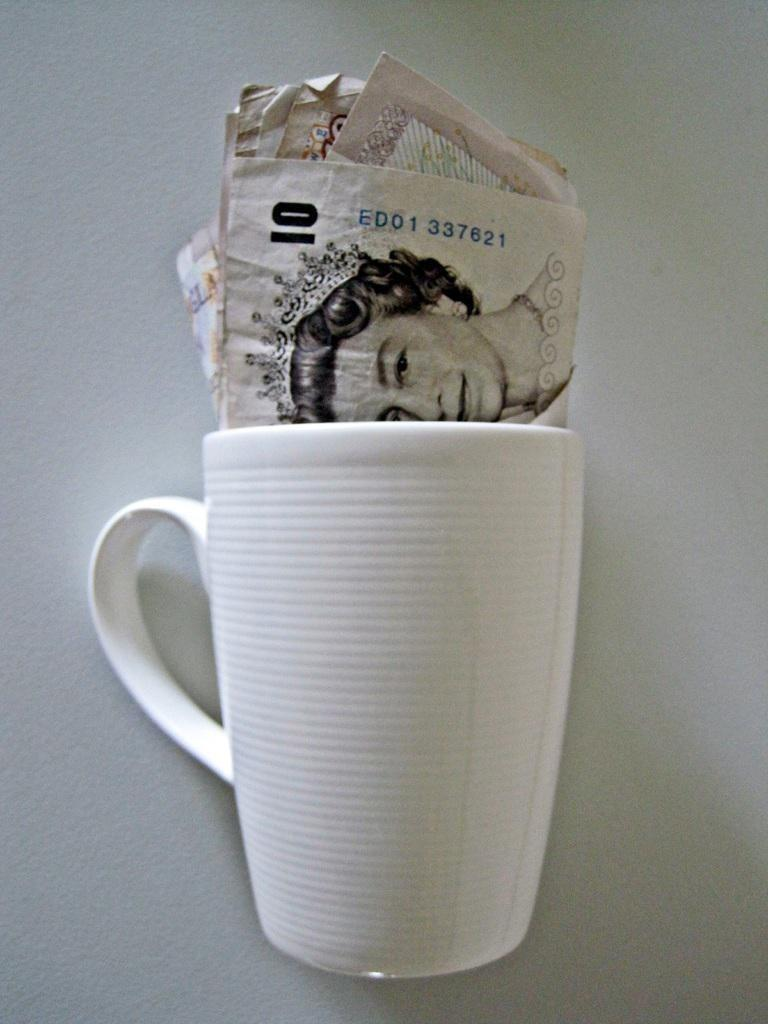cup-handle: (86, 419, 588, 979)
